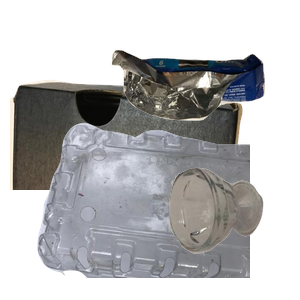cardboard: (10, 77, 245, 257)
glass: (166, 165, 300, 300)
plastic: (35, 120, 275, 300)
trash: (109, 47, 300, 160)
